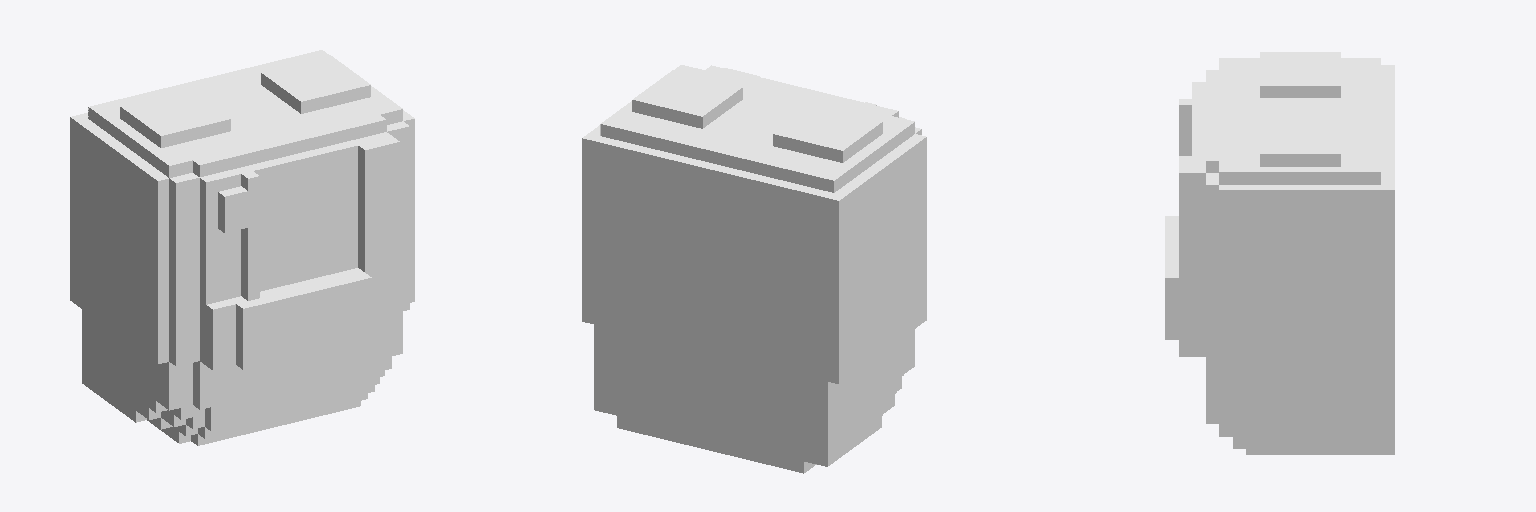
The model's file is meter2.obj.
The picture shows the model from 3 angles: view 1: azimuth 30°, elevation 25°; view 2: azimuth 150°, elevation 25°; view 3: azimuth 270°, elevation 25°; orthographic projection.
Visible parts, largest first — view 1: object 1; view 2: object 1; view 3: object 1.
Part boxes in pixels (left/top/right/bottom): object 1: left=70, top=50, right=414, bottom=445; object 1: left=582, top=65, right=926, bottom=473; object 1: left=1165, top=52, right=1394, bottom=454.
Bounding box in the file's own units: 2.2 × 2.5 × 1.7.